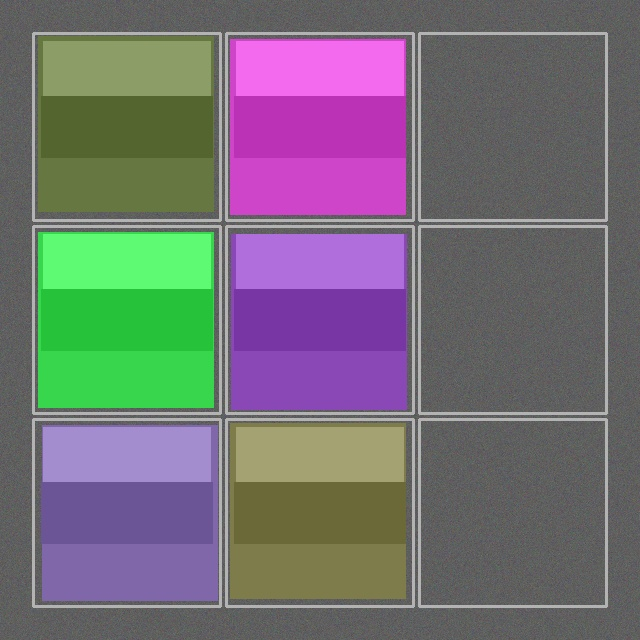space-empty: (421, 35, 604, 218), (421, 228, 604, 411), (421, 421, 604, 604)
space-occupied: (35, 35, 218, 218), (228, 35, 411, 218), (35, 228, 218, 411), (228, 228, 411, 411), (35, 421, 218, 604), (228, 421, 411, 604)
